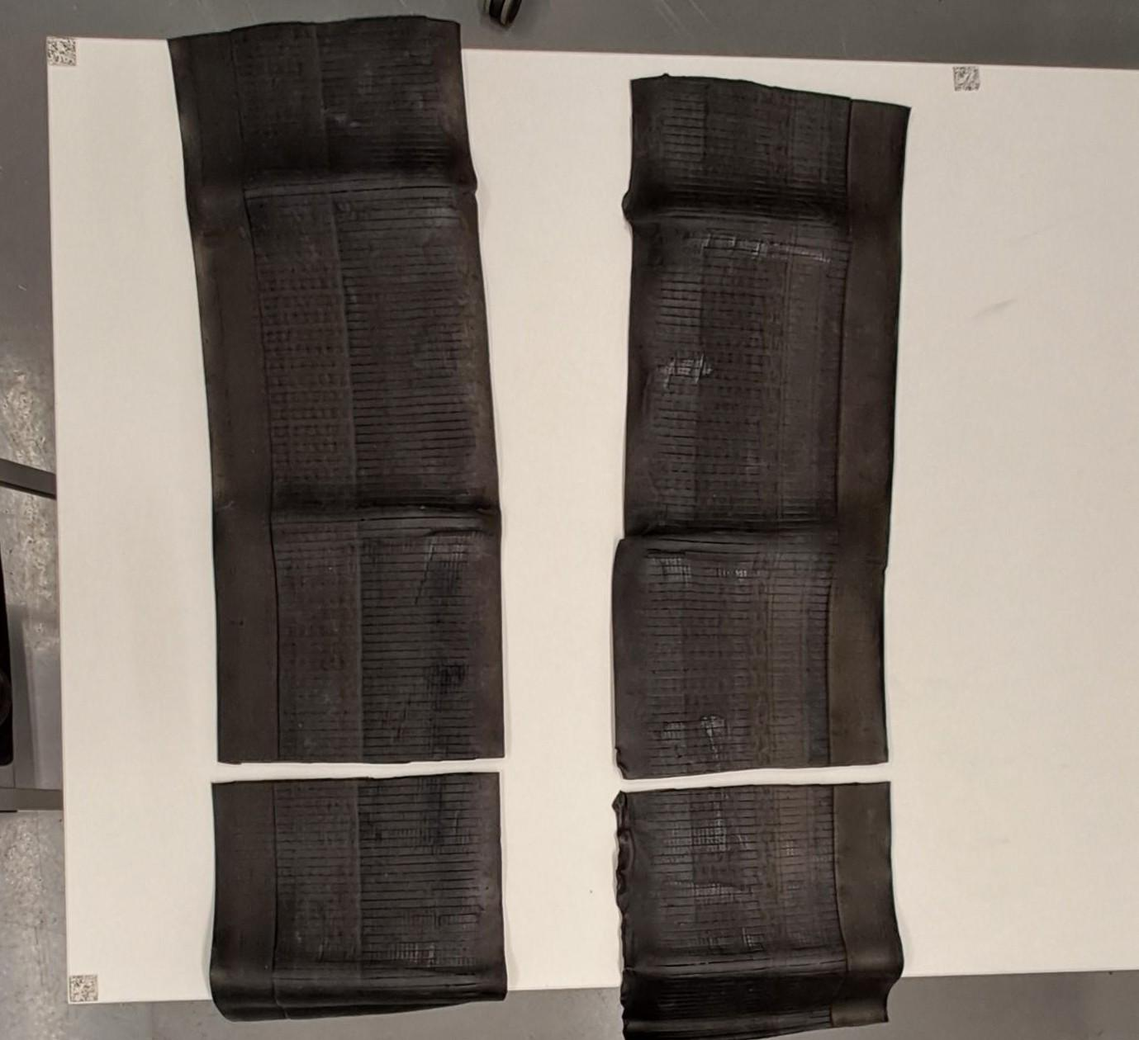cut_edge: (620, 762, 889, 792), (211, 758, 503, 782)
